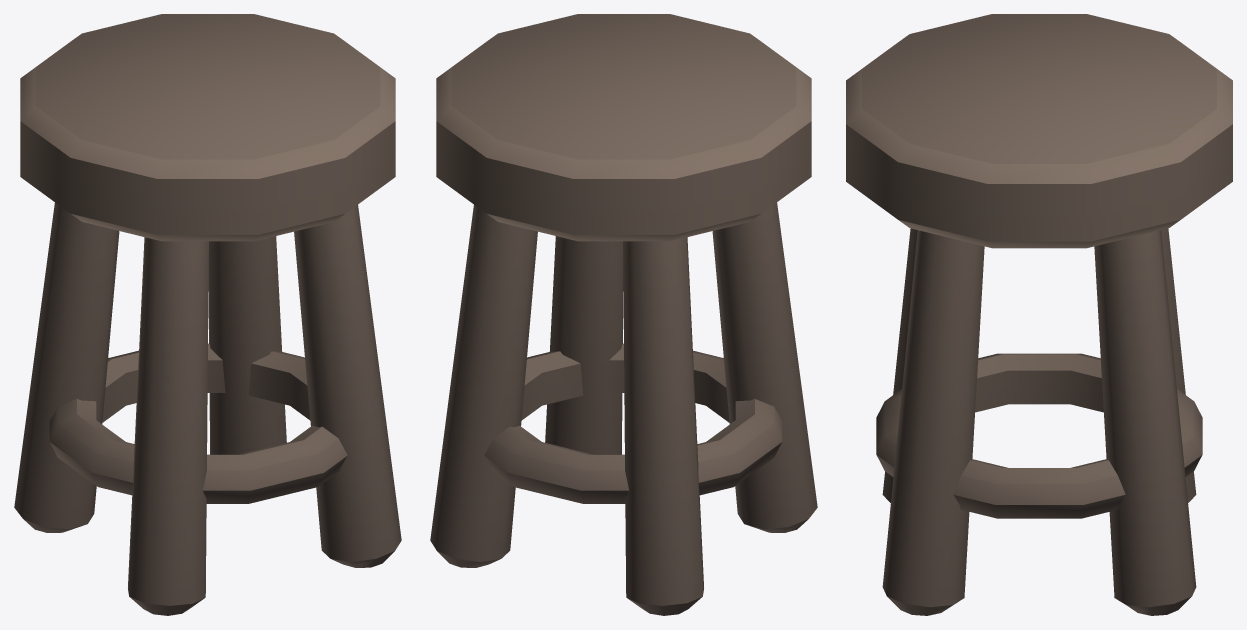
The model's file is GothGirl_Stool.obj.
3 views of the same model, side by side, from view 1: azimuth 30°, elevation 25°; view 2: azimuth 150°, elevation 25°; view 3: azimuth 270°, elevation 25° (orthographic). The views are drawn at different scales.
Parts seen in each view (by area): view 1: GothGirl_Stool; view 2: GothGirl_Stool; view 3: GothGirl_Stool.
Part boxes in pixels (box(x1,y1,x2,y2)): GothGirl_Stool: box(14, 14, 401, 615); GothGirl_Stool: box(430, 14, 817, 615); GothGirl_Stool: box(846, 14, 1232, 615).
Bounding box in the file's own units: 0.6 × 0.8 × 0.6.
Materials: 1 (1 with a texture image).
